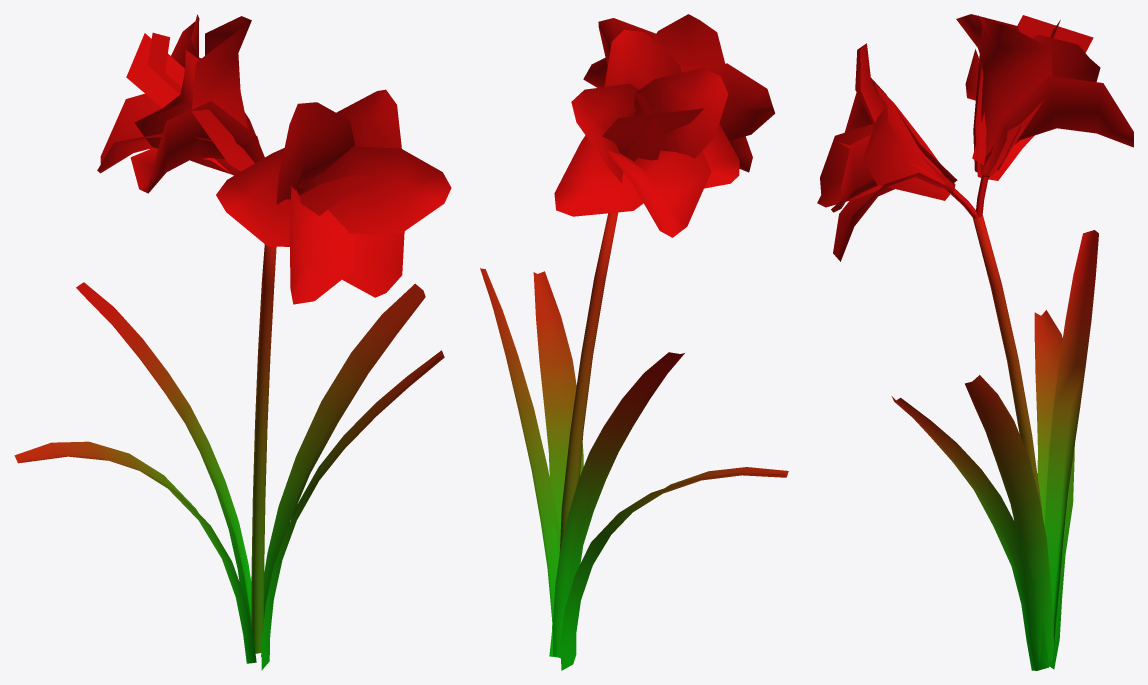
Rendered from Var1_LOD0.fbx.
3 renders of one model, left to right at view 1: azimuth 30°, elevation 25°; view 2: azimuth 150°, elevation 25°; view 3: azimuth 270°, elevation 25°, orthographic. The views are drawn at different scales.
Parts seen in each view (by area): view 1: _679b_Var1_LOD0; view 2: _679b_Var1_LOD0; view 3: _679b_Var1_LOD0.
Boxes of the visible parts, left/top/right/bottom form: _679b_Var1_LOD0: left=14, top=14, right=451, bottom=670; _679b_Var1_LOD0: left=480, top=14, right=788, bottom=670; _679b_Var1_LOD0: left=817, top=14, right=1133, bottom=670.
Bounding box in the file's own units: 50.11 × 87.62 × 39.7.
